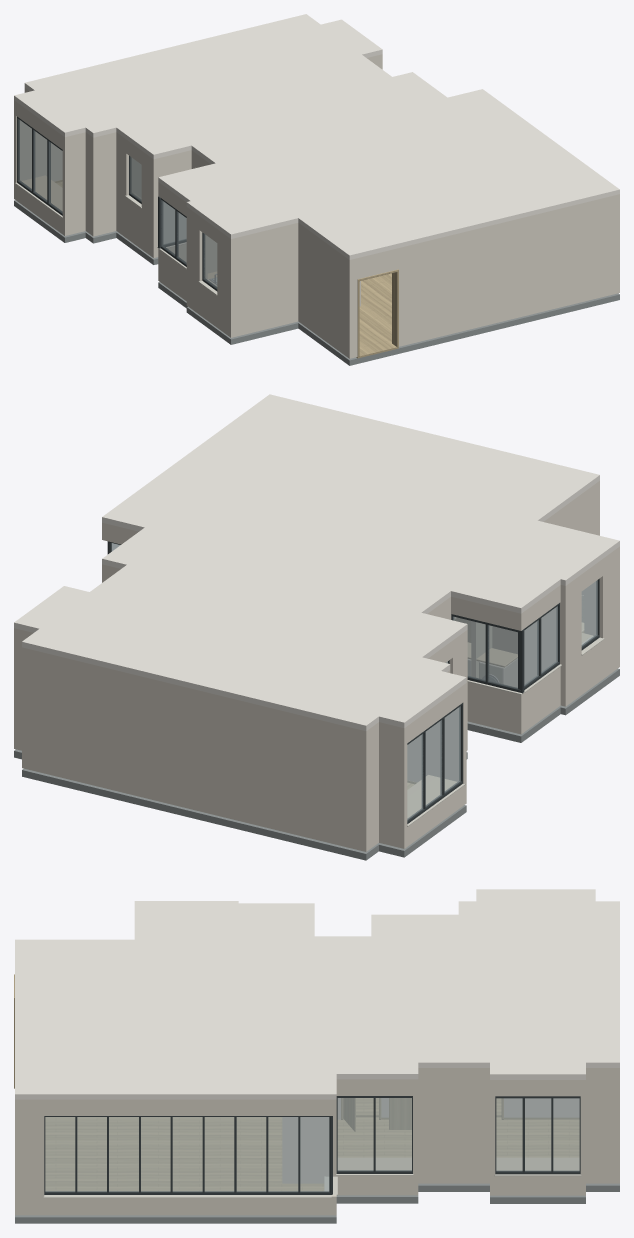
Rendered from architecture-full.glb.
The picture shows the model from 3 angles, top to bottom: view 1: azimuth 30°, elevation 25°; view 2: azimuth 150°, elevation 25°; view 3: azimuth 270°, elevation 25°; orthographic projection. The views are drawn at different scales.
Parts seen in each view (by area): view 1: 顶板_隐藏后可俯视室内, 墙体_0.00-0.45_00, 墙体_1.20-2.40_02, 墙体_2.40-2.80_00, 墙体_1.20-2.40_08, 墙体_0.50-0.95_04, 住宅楼板, 墙体_0.50-0.95_02, 墙体_1.20-2.40_04, 客餐厅阳台及过道_地面, 墙体_0.95-1.20_02, 墙体_0.95-1.20_06 (+16 smaller); view 2: 顶板_隐藏后可俯视室内, 墙体_1.20-2.40_00, 墙体_2.40-2.80_00, 墙体_0.00-0.45_00, 墙体_0.50-0.95_00, 住宅楼板, 墙体_0.95-1.20_00, 墙体_0.50-0.95_04, 墙体_1.20-2.40_07, 墙体_1.20-2.40_08, 晾晒北窗_玻璃, 墙体_0.45-0.50_00 (+11 smaller); view 3: 顶板_隐藏后可俯视室内, 客餐厅阳台及过道_地面, 墙体_0.00-0.45_00, 墙体_2.40-2.80_00, 住宅楼板, 墙体_1.20-2.40_01, 长辈房_地面, 儿童房东飘窗_玻璃, 儿童房东飘窗_玻璃.001, 儿童房_地面, 客餐厅阳台长窗_玻璃, 客餐厅阳台长窗_玻璃.004 (+25 smaller).
Part boxes in pixels (x1=…): 顶板_隐藏后可俯视室内: x1=14, y1=14, x2=619, y2=259; 墙体_0.00-0.45_00: x1=14, y1=166, x2=619, y2=358; 墙体_1.20-2.40_02: x1=398, y1=208, x2=619, y2=304; 墙体_2.40-2.80_00: x1=14, y1=54, x2=619, y2=273; 墙体_1.20-2.40_08: x1=217, y1=237, x2=357, y2=316; 墙体_0.50-0.95_04: x1=62, y1=192, x2=360, y2=341; 住宅楼板: x1=14, y1=200, x2=619, y2=365; 墙体_0.50-0.95_02: x1=399, y1=259, x2=619, y2=328; 墙体_1.20-2.40_04: x1=62, y1=146, x2=140, y2=195; 客餐厅阳台及过道_地面: x1=356, y1=273, x2=398, y2=358; 墙体_0.95-1.20_02: x1=399, y1=250, x2=619, y2=313; 墙体_0.95-1.20_06: x1=217, y1=279, x2=357, y2=325; 顶板_隐藏后可俯视室内: x1=14, y1=394, x2=619, y2=731; 墙体_1.20-2.40_00: x1=14, y1=645, x2=407, y2=800; 墙体_2.40-2.80_00: x1=14, y1=481, x2=619, y2=748; 墙体_0.00-0.45_00: x1=14, y1=648, x2=619, y2=851; 墙体_0.50-0.95_00: x1=14, y1=708, x2=407, y2=830; 住宅楼板: x1=14, y1=668, x2=619, y2=860; 墙体_0.95-1.20_00: x1=14, y1=697, x2=407, y2=810; 墙体_0.50-0.95_04: x1=407, y1=621, x2=619, y2=783; 墙体_1.20-2.40_07: x1=471, y1=592, x2=581, y2=654; 墙体_1.20-2.40_08: x1=561, y1=498, x2=619, y2=627; 晾晒北窗_玻璃: x1=488, y1=625, x2=517, y2=688; 墙体_0.45-0.50_00: x1=14, y1=646, x2=619, y2=832; 顶板_隐藏后可俯视室内: x1=15, y1=889, x2=619, y2=1099; 客餐厅阳台及过道_地面: x1=45, y1=1098, x2=501, y2=1190; 墙体_0.00-0.45_00: x1=15, y1=1101, x2=619, y2=1215; 墙体_2.40-2.80_00: x1=15, y1=1068, x2=619, y2=1115; 住宅楼板: x1=15, y1=1183, x2=619, y2=1223; 墙体_1.20-2.40_01: x1=413, y1=1084, x2=495, y2=1145; 长辈房_地面: x1=496, y1=1117, x2=579, y2=1157; 儿童房东飘窗_玻璃: x1=337, y1=1098, x2=373, y2=1170; 儿童房东飘窗_玻璃.001: x1=375, y1=1098, x2=411, y2=1170; 儿童房_地面: x1=338, y1=1117, x2=411, y2=1157; 客餐厅阳台长窗_玻璃: x1=45, y1=1117, x2=75, y2=1191; 客餐厅阳台长窗_玻璃.004: x1=172, y1=1117, x2=202, y2=1191.
Bounding box in the file's own units: 10.67 × 3.13 × 13.28.
26 materials, 7 textured.
